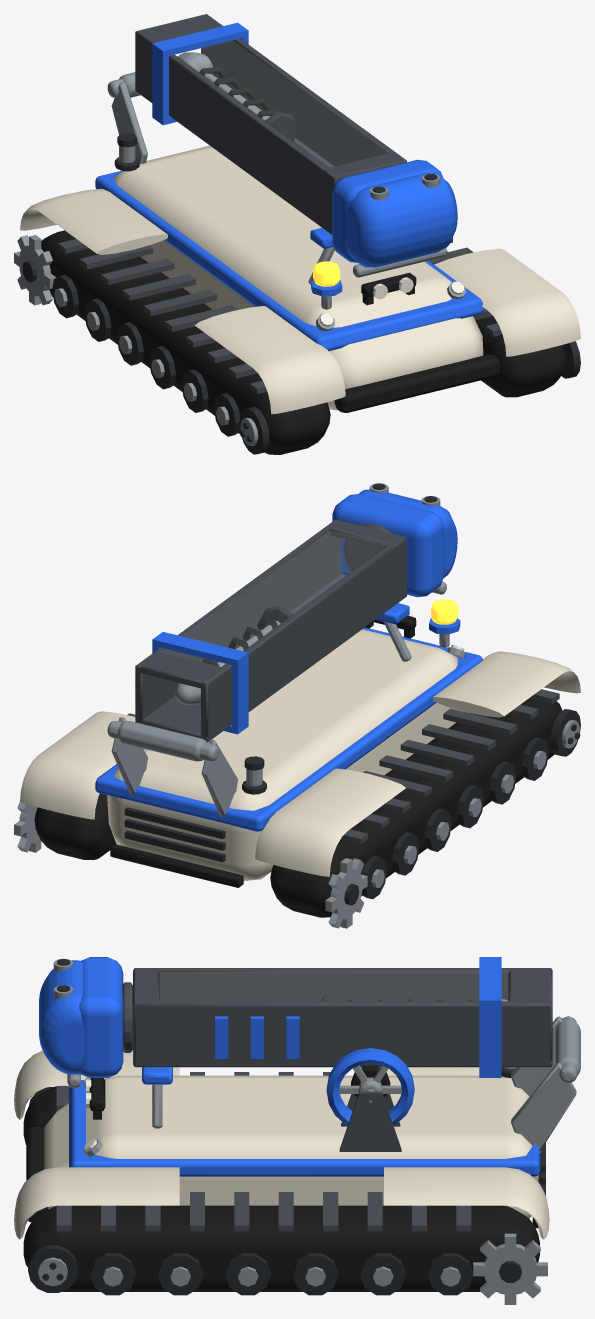
Rendered from drill_rig.glb.
3 views of the same model, one above another, from view 1: azimuth 30°, elevation 25°; view 2: azimuth 150°, elevation 25°; view 3: azimuth 270°, elevation 25° (orthographic). The views are drawn at different scales.
Parts seen in each view (by area): view 1: hull__M_CreamPlastic, dr_mast__M_SmokePlastic, gear__M_Licorice, cab_head__M_Team, dr_mast__M_ClearGlass, hull__M_Team, tread_r__M_SmokePlastic, gear__M_Dark, hull__M_Licorice, dr_mast__M_Team, hull__M_SpringSteel, sprocket_r__M_SpringSteel (+9 smaller); view 2: hull__M_CreamPlastic, dr_mast__M_SmokePlastic, gear__M_Licorice, dr_mast__M_ClearGlass, hull__M_Team, cab_head__M_Team, tread_r__M_SmokePlastic, gear__M_Dark, hull__M_SpringSteel, hull__M_Dark, dr_mast__M_Team, dr_mast__M_SpringSteel (+9 smaller); view 3: hull__M_CreamPlastic, dr_mast__M_SmokePlastic, gear__M_Licorice, dr_mast__M_ClearGlass, cab_head__M_Team, hull__M_Team, gear__M_Dark, tread_l__M_SmokePlastic, hull__M_SpringSteel, dr_mast__M_Team, sprocket_l__M_SpringSteel, hull__M_SmokePlastic (+11 smaller).
Boxes of the visible parts, x1,y1,x2,y2 form: hull__M_CreamPlastic: (20,145,580,414); dr_mast__M_SmokePlastic: (135,14,406,234); gear__M_Licorice: (41,230,566,454); cab_head__M_Team: (332,159,457,267); dr_mast__M_ClearGlass: (177,41,386,166); hull__M_Team: (95,170,483,350); tread_r__M_SmokePlastic: (58,239,267,394); gear__M_Dark: (52,274,239,436); hull__M_Licorice: (334,354,500,412); dr_mast__M_Team: (152,22,248,125); hull__M_SpringSteel: (107,79,465,330); sprocket_r__M_SpringSteel: (14,235,56,305); hull__M_CreamPlastic: (20,629,580,881); dr_mast__M_SmokePlastic: (135,519,406,742); gear__M_Licorice: (34,698,562,917); dr_mast__M_ClearGlass: (165,531,386,666); hull__M_Team: (95,603,482,831); cab_head__M_Team: (332,489,457,597); tread_r__M_SmokePlastic: (340,689,559,844); gear__M_Dark: (361,737,548,899); hull__M_SpringSteel: (107,621,465,817); hull__M_Dark: (124,807,225,862); dr_mast__M_Team: (152,632,248,734); dr_mast__M_SpringSteel: (118,721,207,761); hull__M_CreamPlastic: (14,1050,549,1239); dr_mast__M_SmokePlastic: (133,968,552,1067); gear__M_Licorice: (23,1086,539,1291); dr_mast__M_ClearGlass: (160,973,507,1000); cab_head__M_Team: (39,957,123,1077); hull__M_Team: (69,1067,540,1176); gear__M_Dark: (90,1253,473,1295); tread_l__M_SmokePlastic: (56,1192,471,1231); hull__M_SpringSteel: (83,1016,577,1156); dr_mast__M_Team: (215,957,501,1077); sprocket_l__M_SpringSteel: (473,1233,547,1304); hull__M_SmokePlastic: (339,1091,401,1151).
Size of the model in its own units: 0.896 by 0.6186 by 1.28.
